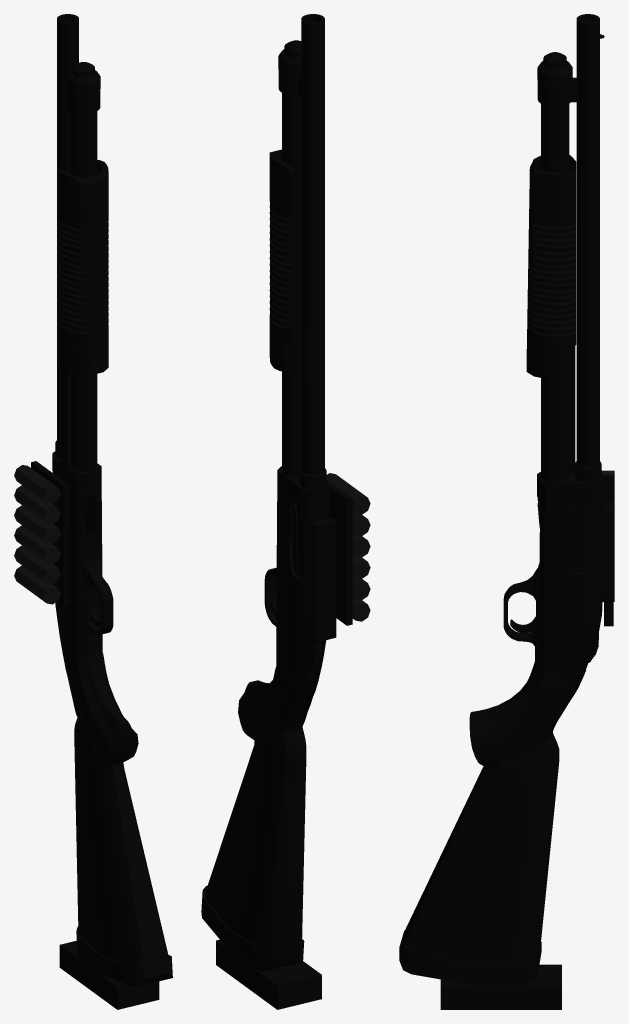
The model's file is M590__Mount_ScopeBase__RecoilPad_Rubber__Sidesaddle_Shotgun.fbx.
3 renders of one model, left to right at view 1: azimuth 30°, elevation 25°; view 2: azimuth 210°, elevation 25°; view 3: azimuth 270°, elevation 25°, orthographic. The views are drawn at different scales.
Parts seen in each view (by area): view 1: asset_M590.001; view 2: asset_M590.001; view 3: asset_M590.001.
Part boxes in pixels (x1,y1,x2,y2): asset_M590.001: [14, 14, 172, 1009]; asset_M590.001: [201, 14, 370, 1009]; asset_M590.001: [399, 14, 614, 1009].
Size of the model in its own units: 0.0447 by 0.615 by 0.1224.
